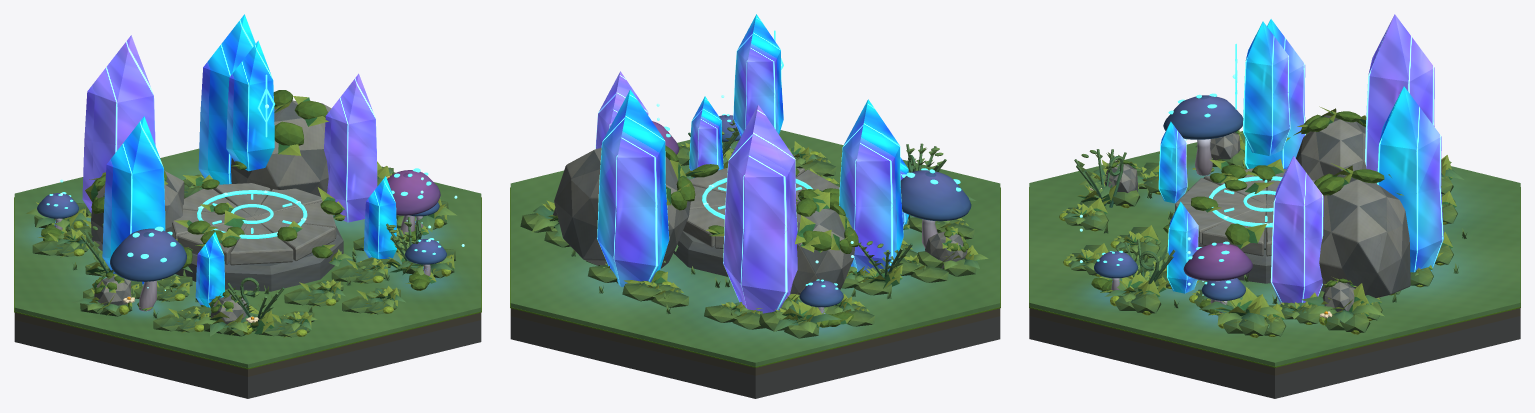
The model's file is hex_crystal_shrine.glb.
3 views of the same model, side by side, from view 1: azimuth 30°, elevation 25°; view 2: azimuth 150°, elevation 25°; view 3: azimuth 270°, elevation 25° (orthographic). The views are drawn at different scales.
Parts seen in each view (by area): view 1: Standard hex meadow top.001, Standard hex stone foundation.001, Faceted magical crystal.004, Faceted magical crystal.002, Faceted magical crystal.006, Faceted magical crystal.001, Faceted magical crystal.005, Angular mossy forest boulder.002, Standard hex earth layer.001, Shrine stone pedestal.001, Broad faceted mushroom cap.001, Faceted magical crystal.007 (+21 smaller); view 2: Standard hex meadow top.001, Faceted magical crystal.004, Standard hex stone foundation.001, Faceted magical crystal.005, Faceted magical crystal.002, Angular mossy forest boulder.002, Faceted magical crystal.001, Standard hex earth layer.001, Broad faceted mushroom cap.001, Angular mossy forest boulder.001, Faceted magical crystal.007, Shrine stone pedestal.001 (+13 smaller); view 3: Standard hex meadow top.001, Standard hex stone foundation.001, Angular mossy forest boulder.002, Faceted magical crystal.005, Faceted magical crystal.006, Faceted magical crystal.004, Faceted magical crystal.001, Standard hex earth layer.001, Angular mossy forest boulder.001, Broad faceted mushroom cap.001, Faceted magical crystal.002, Faceted magical crystal.007 (+16 smaller).
Boxes of the visible parts, x1,y1,x2,y2 form: Standard hex meadow top.001: (14,148,481,368); Standard hex stone foundation.001: (14,320,481,398); Faceted magical crystal.004: (82,35,155,213); Faceted magical crystal.002: (102,116,165,284); Faceted magical crystal.006: (324,73,377,222); Faceted magical crystal.001: (226,40,274,171); Faceted magical crystal.005: (198,14,255,184); Angular mossy forest boulder.002: (231,100,331,196); Standard hex earth layer.001: (14,312,481,376); Shrine stone pedestal.001: (171,226,343,291); Broad faceted mushroom cap.001: (110,228,186,281); Faceted magical crystal.007: (363,176,396,259); Standard hex meadow top.001: (510,130,1000,366); Faceted magical crystal.004: (723,105,797,313); Standard hex stone foundation.001: (510,316,1000,398); Faceted magical crystal.005: (597,89,669,286); Faceted magical crystal.002: (839,99,903,272); Angular mossy forest boulder.002: (554,148,690,268); Faceted magical crystal.001: (733,14,783,136); Standard hex earth layer.001: (510,308,1000,375); Broad faceted mushroom cap.001: (900,170,971,221); Angular mossy forest boulder.001: (790,201,854,294); Faceted magical crystal.007: (689,96,723,177); Shrine stone pedestal.001: (673,231,728,276); Standard hex meadow top.001: (1029,131,1520,366); Standard hex stone foundation.001: (1029,316,1520,398); Angular mossy forest boulder.002: (1319,174,1410,298); Faceted magical crystal.005: (1377,86,1443,272); Faceted magical crystal.006: (1270,156,1323,303); Faceted magical crystal.004: (1364,14,1434,171); Faceted magical crystal.001: (1243,21,1290,155); Standard hex earth layer.001: (1029,308,1520,375); Angular mossy forest boulder.001: (1296,115,1366,180); Broad faceted mushroom cap.001: (1163,95,1243,139); Faceted magical crystal.002: (1244,19,1305,169); Faceted magical crystal.007: (1167,201,1198,293).
Bounding box in the file's own units: 5.11 × 2.59 × 4.42.
47 materials, 32 textured.
